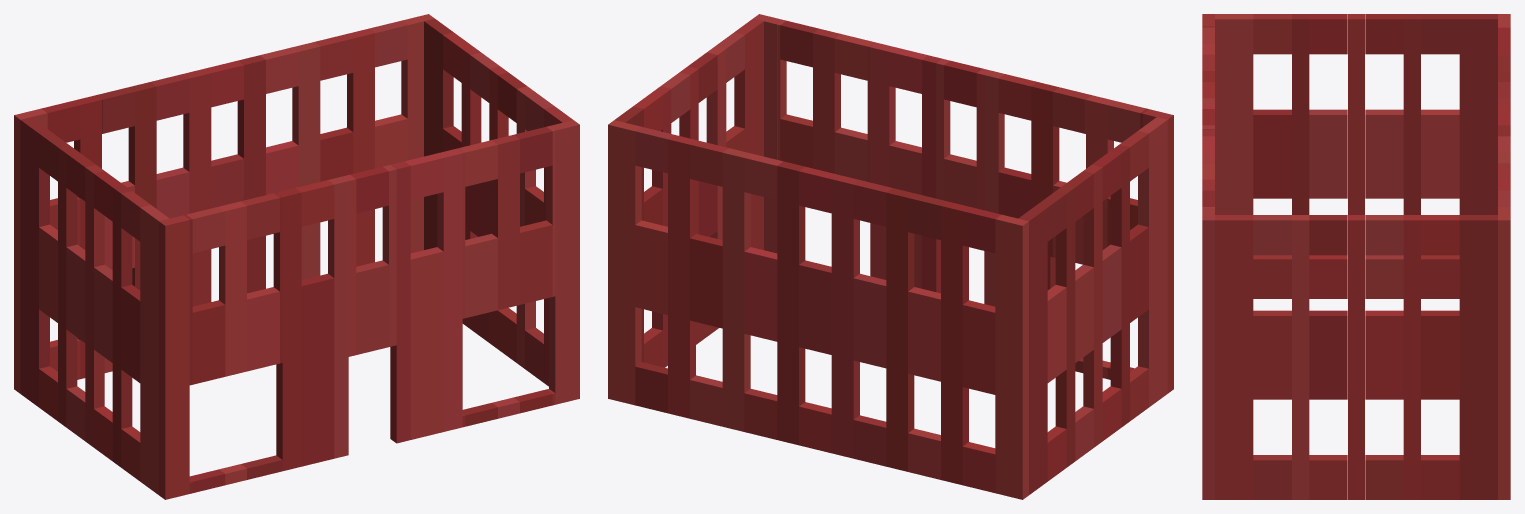
The model's file is PostOffice_Walls.glb.
The picture shows the model from 3 angles, left to right: view 1: azimuth 30°, elevation 25°; view 2: azimuth 150°, elevation 25°; view 3: azimuth 270°, elevation 25°; orthographic projection.
Parts seen in each view (by area): view 1: PostOffice_Walls; view 2: PostOffice_Walls; view 3: PostOffice_Walls.
Part boxes in pixels (x1=…): PostOffice_Walls: x1=14, y1=14, x2=579, y2=499; PostOffice_Walls: x1=608, y1=14, x2=1173, y2=499; PostOffice_Walls: x1=1202, y1=14, x2=1510, y2=499.
Bounding box in the file's own units: 38 × 24 × 24.
